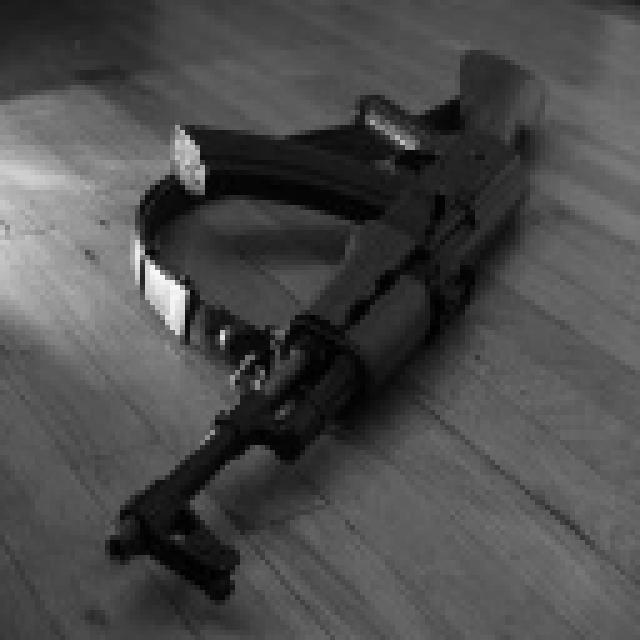Rifle: (0, 0, 565, 615)
